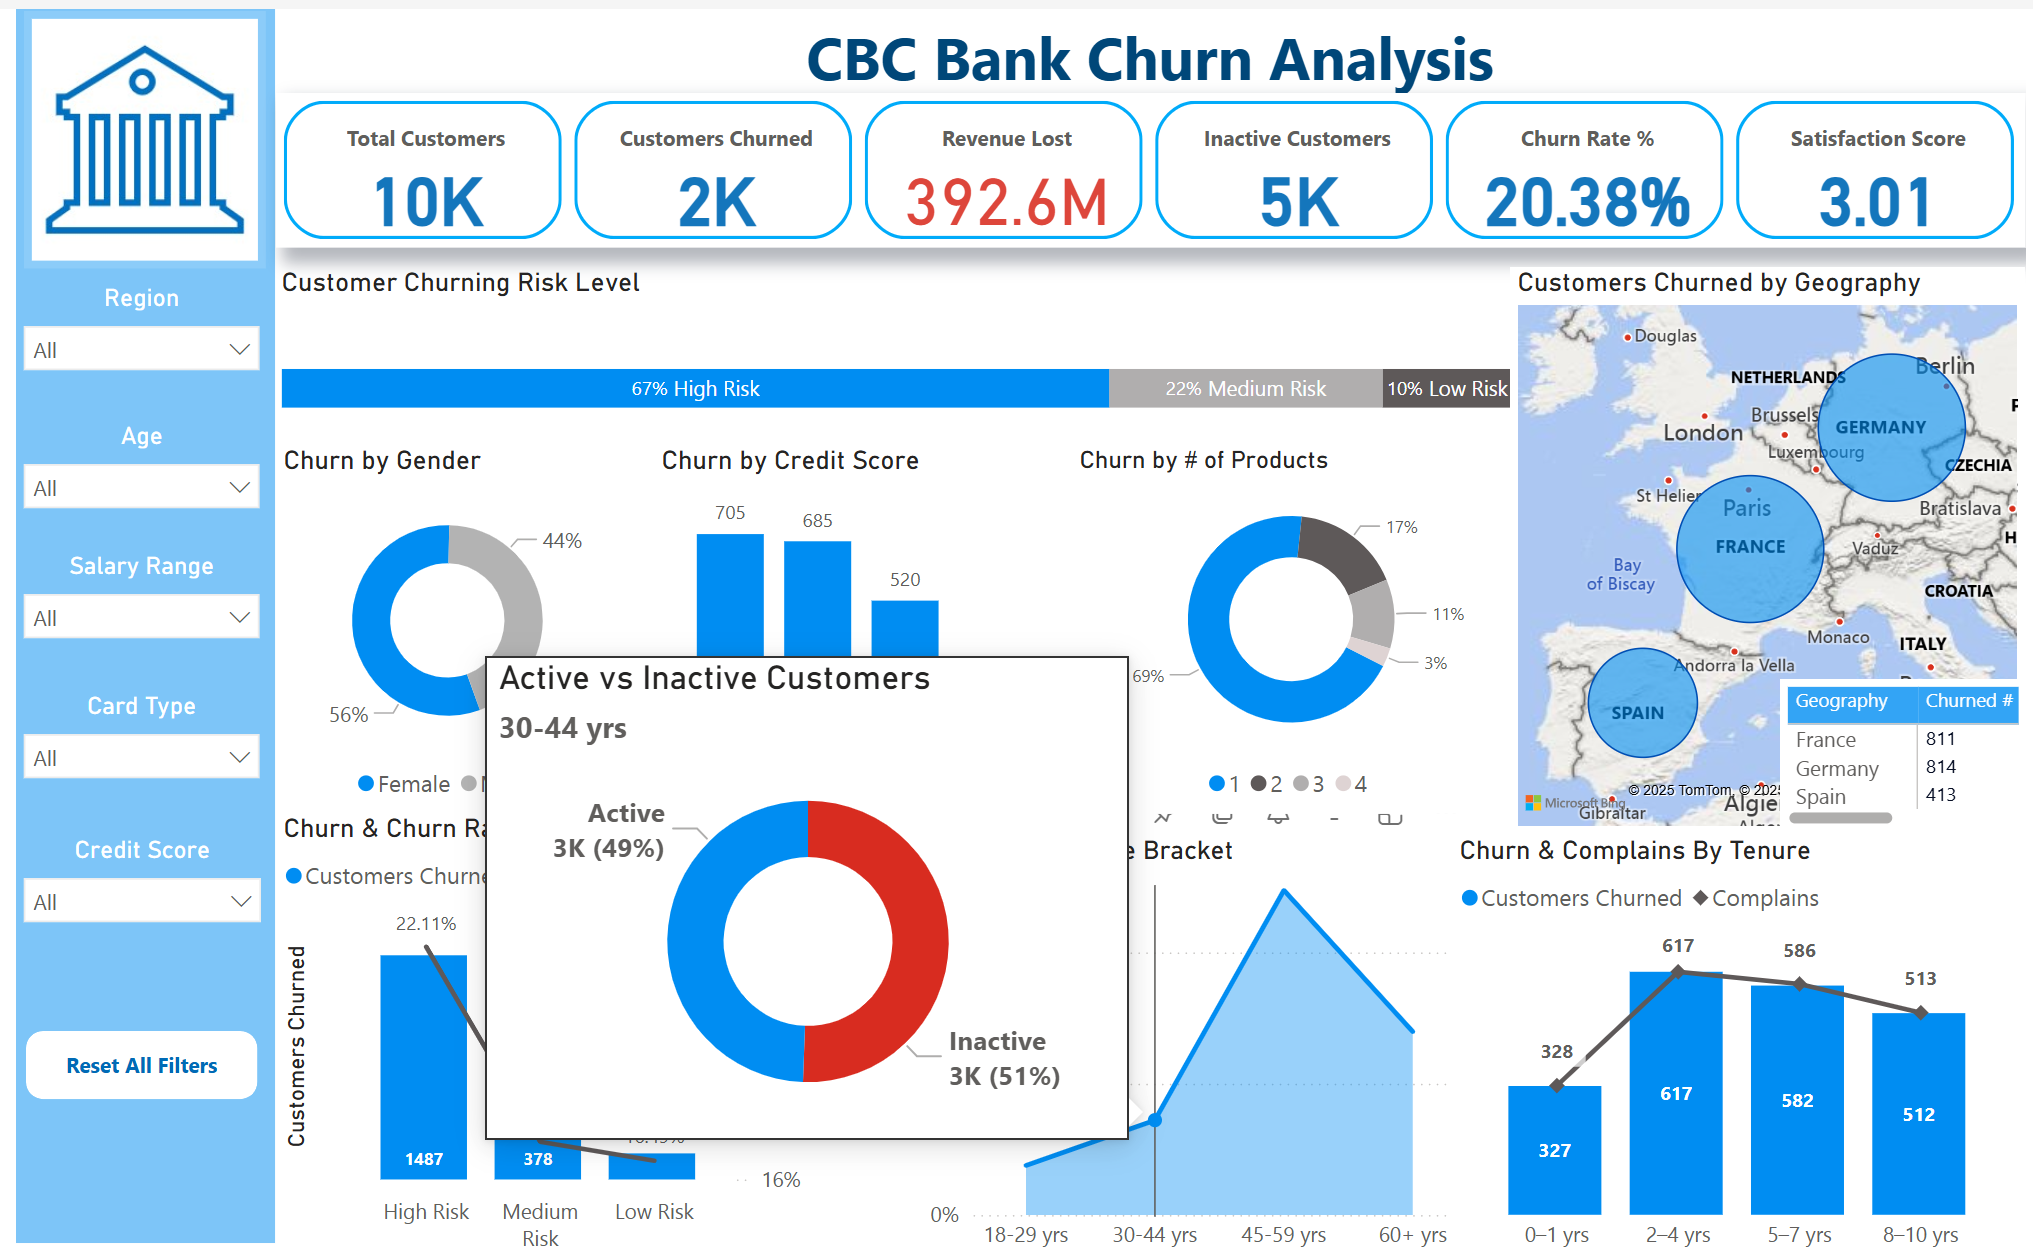

Layout of this report page (visuals, bound fields, positions):
{"tool":"powerbi","page":{"name":"Home","canvas":[1280,800],"ordinal":0},"visuals":[{"type":"hundredPercentStackedBarChart","title":"Customer Churning Risk Level","fields":{"Series":["Customer-Churn-Records.Risk Level"],"Y":["Measure Table.Total Customers"]},"box":[164.9,164.9,793.4,129.3],"z":0},{"type":"textbox","box":[231.6,0,980.9,60],"z":1000},{"type":"areaChart","title":"Churn Rate by Age Bracket","fields":{"Y":["Measure Table.Churn Rate %"],"Category":["Age Brackets Order.Age Bracket"]},"box":[568.9,526.3,358.2,274.1],"z":2000},{"type":"shape","box":[0,0,165.2,786.2],"z":3000},{"type":"cardVisual","fields":{"Data":["Measure Table.Total Customers","Measure Table.Customers Churned","Measure Table.Churned Revenue Lost","Measure Table.Inactive Customers","Measure Table.Churn Rate %","Measure Table.Average Satisfaction Score"]},"box":[165.2,53.5,1114.6,98.7],"z":4000},{"type":"donutChart","title":"Churn by Gender","fields":{"Category":["Customer-Churn-Records.Gender"],"Y":["Measure Table.Customers Churned"]},"box":[165.2,277.4,218.3,235.1],"z":5000},{"type":"columnChart","title":"Churn by Credit Score ","fields":{"Category":["Customer-Churn-Records.CreditScoreGroup"],"Y":["Measure Table.Customers Churned"]},"box":[406.6,277.3,266,248.2],"z":6000},{"type":"slicer","title":"Salary Range","fields":{"Values":["Customer-Churn-Records.Salary Range"]},"box":[0,345.1,165.2,63.7],"z":7000},{"type":"slicer","title":"Age","fields":{"Values":["Customer-Churn-Records.Age Bracket"]},"box":[0,262.1,165.2,64.6],"z":8000},{"type":"slicer","title":"Credit Score","fields":{"Values":["Customer-Churn-Records.CreditScoreGroup"]},"box":[0,526,166.1,69.2],"z":9000},{"type":"slicer","title":"Card Type","fields":{"Values":["Customer-Churn-Records.Card Type"]},"box":[0,434.6,165.2,64.6],"z":10000},{"type":"lineStackedColumnComboChart","title":"Churn & Churn Rate By  Risk Level","fields":{"Category":["Customer-Churn-Records.Risk Level"],"Y":["Measure Table.Customers Churned"],"Y2":["Measure Table.Churn Rate %"]},"box":[165.8,512.4,361.6,287.6],"z":11000},{"type":"donutChart","title":"Churn by # of Products","fields":{"Category":["Customer-Churn-Records.NumOfProducts (bins)"],"Y":["Measure Table.Customers Churned"]},"box":[672.6,277.3,279.2,235.1],"z":12000},{"type":"lineStackedColumnComboChart","title":"Churn & Complains By Tenure","fields":{"Category":["Customer-Churn-Records.TenureGroup"],"Y":["Measure Table.Customers Churned"],"Y2":["Sum(Customer-Churn-Records.Complain)"]},"box":[914.6,526.3,365.4,274.1],"z":13000},{"type":"map","fields":{"Category":["Customer-Churn-Records.Geography"],"Size":["Measure Table.Customers Churned"]},"box":[951.6,164.5,327.9,360.9],"z":14000},{"type":"shape","box":[6.1,651.1,147.4,43.4],"z":15000},{"type":"slicer","title":"Region","fields":{"Values":["Customer-Churn-Records.Geography"]},"box":[0,174.4,165.2,63.7],"z":16000},{"type":"image","box":[5.5,0.9,154.1,164.2],"z":17000},{"type":"pivotTable","fields":{"Rows":["Customer-Churn-Records.Geography"],"Values":["Measure Table.Customers Churned"]},"box":[1123,427.2,156.9,97.8],"z":18000}]}

Visuals, with their boxes in screenshot pixels (x1, y1, x2, y2), scaled from the page's 1280x800 canvas onto the 2033x1253 screenshot:
"Customer Churning Risk Level" hundredPercentStackedBarChart: {"left": 262, "top": 258, "right": 1522, "bottom": 461}
textbox: {"left": 368, "top": 0, "right": 1926, "bottom": 94}
"Churn Rate by Age Bracket" areaChart: {"left": 904, "top": 824, "right": 1472, "bottom": 1252}
shape: {"left": 0, "top": 0, "right": 262, "bottom": 1231}
cardVisual - Measure Table.Total Customers x Measure Table.Customers Churned: {"left": 262, "top": 84, "right": 2032, "bottom": 238}
"Churn by Gender" donutChart: {"left": 262, "top": 434, "right": 609, "bottom": 803}
"Churn by Credit Score " columnChart: {"left": 646, "top": 434, "right": 1068, "bottom": 823}
"Salary Range" slicer: {"left": 0, "top": 541, "right": 262, "bottom": 640}
"Age" slicer: {"left": 0, "top": 411, "right": 262, "bottom": 512}
"Credit Score" slicer: {"left": 0, "top": 824, "right": 264, "bottom": 932}
"Card Type" slicer: {"left": 0, "top": 681, "right": 262, "bottom": 782}
"Churn & Churn Rate By  Risk Level" lineStackedColumnComboChart: {"left": 263, "top": 803, "right": 838, "bottom": 1252}
"Churn by # of Products" donutChart: {"left": 1068, "top": 434, "right": 1512, "bottom": 803}
"Churn & Complains By Tenure" lineStackedColumnComboChart: {"left": 1453, "top": 824, "right": 2032, "bottom": 1252}
map - Customer-Churn-Records.Geography x Measure Table.Customers Churned: {"left": 1511, "top": 258, "right": 2032, "bottom": 823}
shape: {"left": 10, "top": 1020, "right": 244, "bottom": 1088}
"Region" slicer: {"left": 0, "top": 273, "right": 262, "bottom": 373}
image: {"left": 9, "top": 1, "right": 253, "bottom": 259}
pivotTable - Customer-Churn-Records.Geography x Measure Table.Customers Churned: {"left": 1784, "top": 669, "right": 2032, "bottom": 822}
